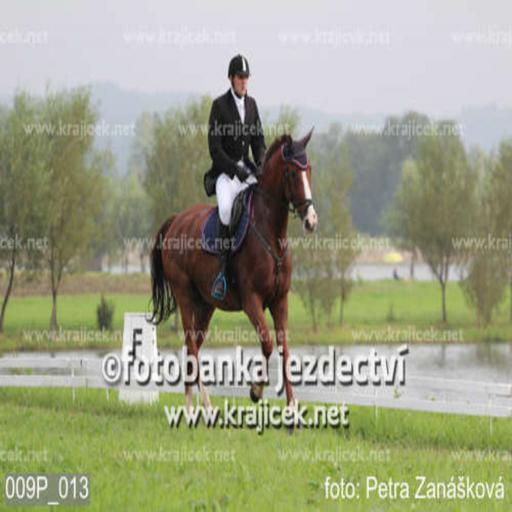Horse: (148, 122, 318, 430)
